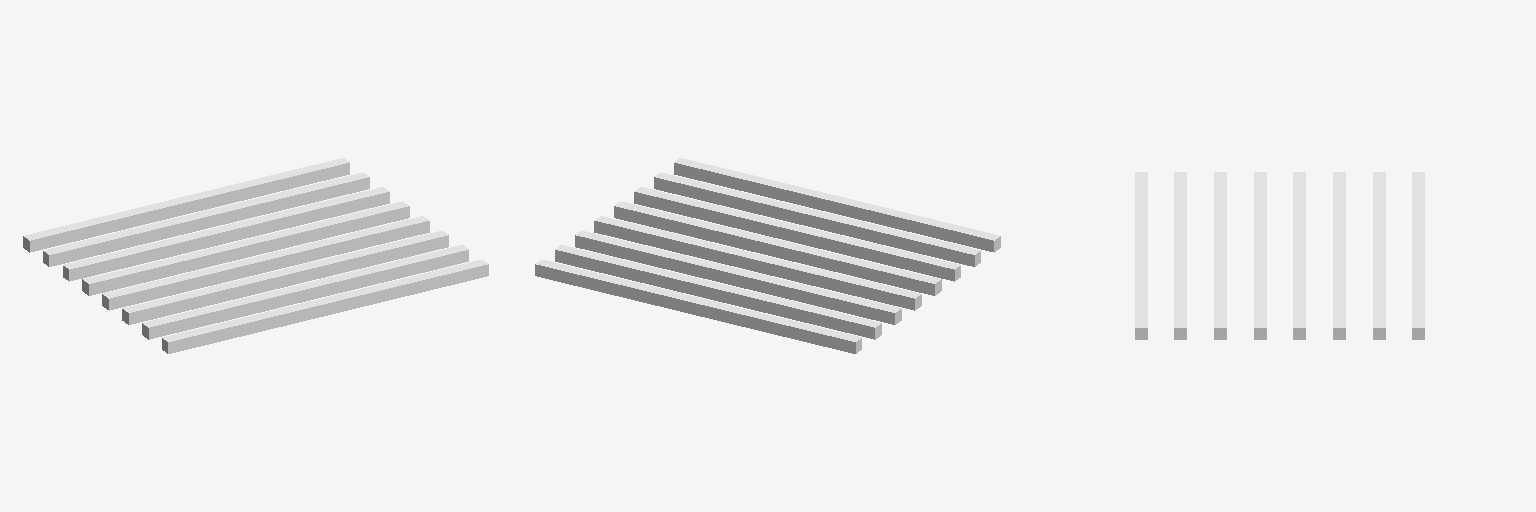
Rendered from Grill-0-grid.obj.
The picture shows the model from 3 angles: view 1: azimuth 30°, elevation 25°; view 2: azimuth 150°, elevation 25°; view 3: azimuth 270°, elevation 25°; orthographic projection.
Parts seen in each view (by area): view 1: grid; view 2: grid; view 3: grid.
Part boxes in pixels (bbox=[...]): grid: bbox=[23, 158, 488, 353]; grid: bbox=[535, 158, 1000, 353]; grid: bbox=[1135, 172, 1424, 339].
Size of the model in its own units: 2.8 by 0.1 by 2.2.